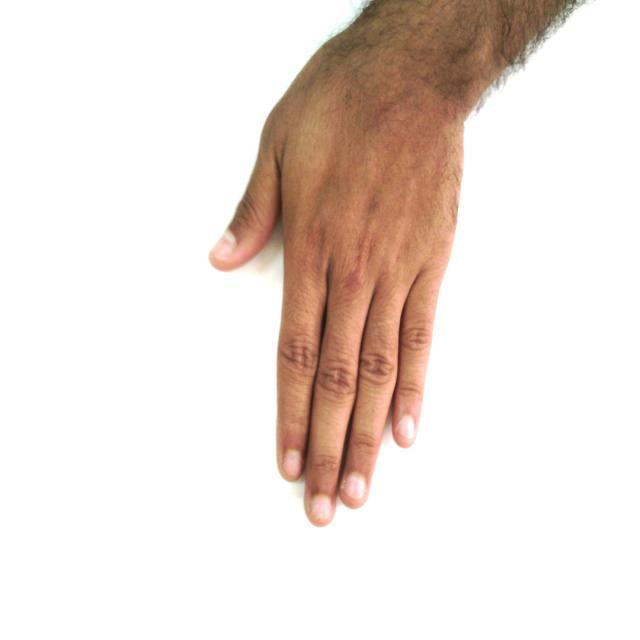Fingernail: (344, 475, 365, 505), (213, 231, 235, 257), (311, 496, 332, 523), (284, 451, 301, 479), (397, 416, 415, 438)
